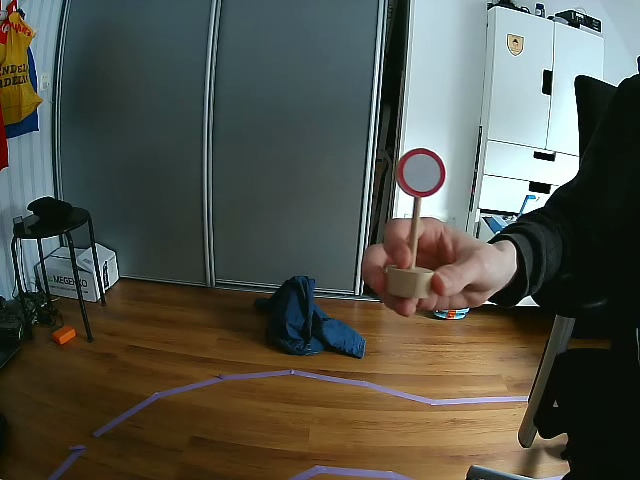wegdicht: (400, 147, 446, 198)
